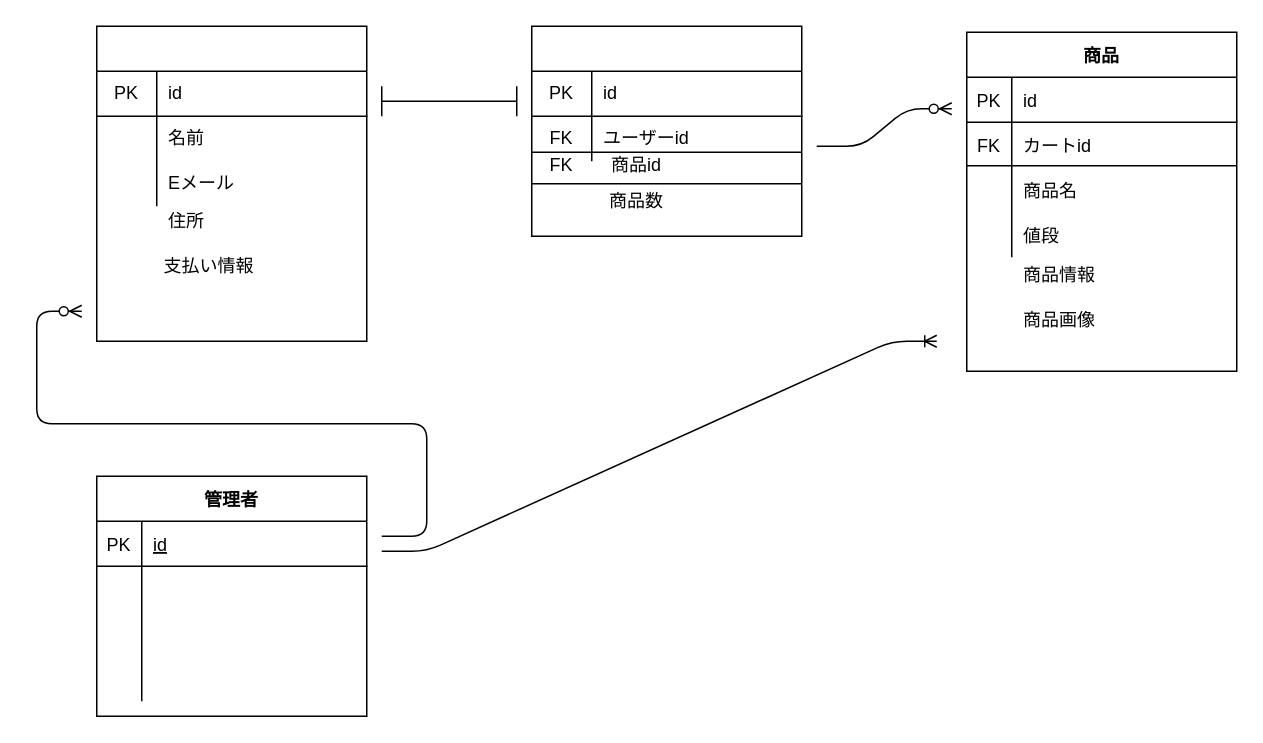
The diagram is 1263 pixels wide and 743 high, and some of its shapes have lost their labels. Here are the shapes that lost their labels. From the top down, the box of each, then its label:
(530, 25, 802, 236): カート
(95, 25, 367, 341): ユーザー
